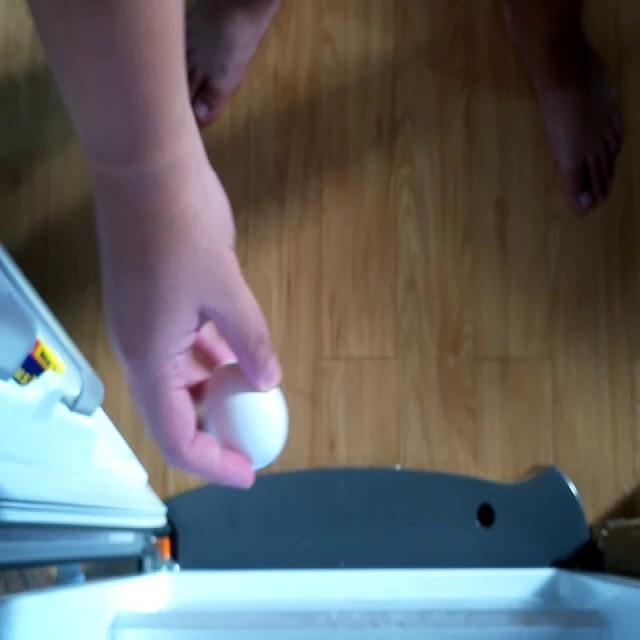egg: (198, 364, 286, 466)
